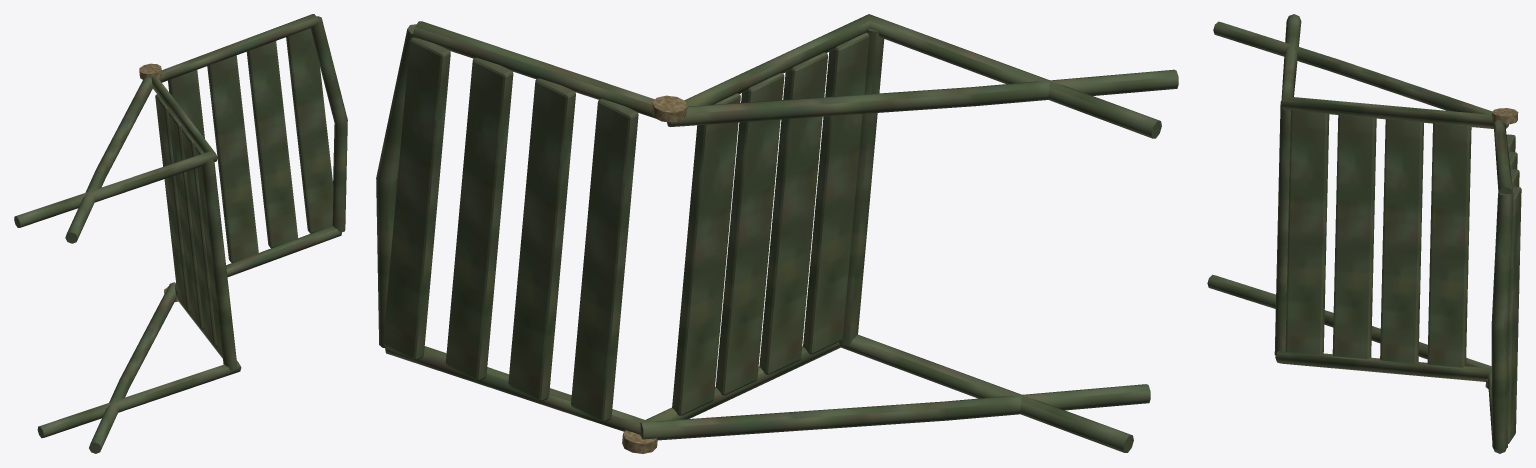
The model's file is by_chair_collapsed.glb.
3 renders of one model, left to right at view 1: azimuth 30°, elevation 25°; view 2: azimuth 150°, elevation 25°; view 3: azimuth 270°, elevation 25°, orthographic. The views are drawn at different scales.
Visible parts, largest first — view 1: by_chair_collapsed; view 2: by_chair_collapsed; view 3: by_chair_collapsed.
Part boxes in pixels (left/top/right/bottom): by_chair_collapsed: left=14, top=14, right=347, bottom=453; by_chair_collapsed: left=376, top=14, right=1178, bottom=453; by_chair_collapsed: left=1207, top=14, right=1521, bottom=453.
Bounding box in the file's own units: 0.9656 × 0.5774 × 0.5509.
Materials: 1 (1 with a texture image).
